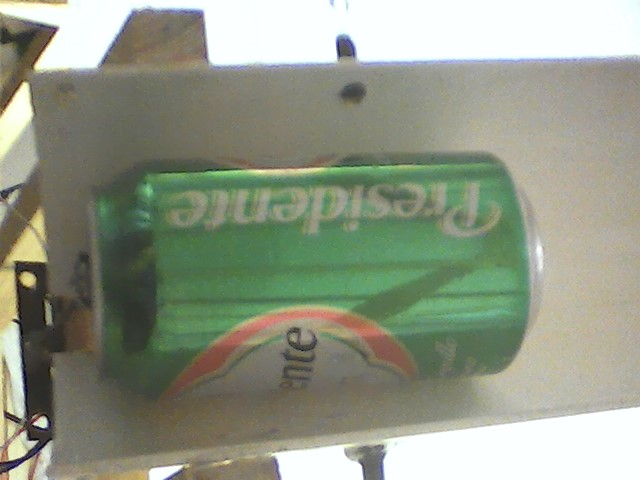lata: (75, 145, 550, 405)
